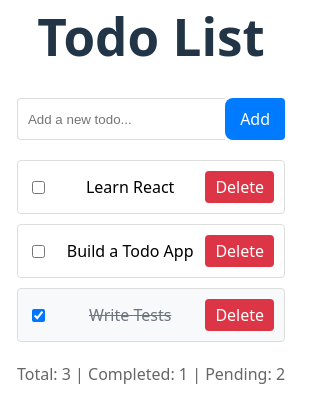
it: TodoList › displays message when there are no todos
Click the button "Delete" next to "Learn React". click: click(240, 188)
box: [205,172,274,204]
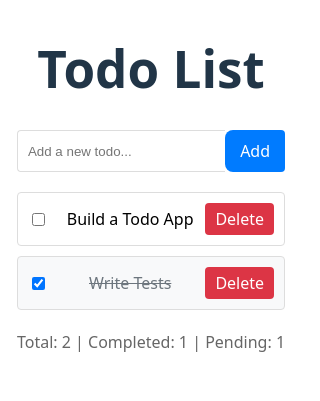
Click the button "Delete" next to "Build a Todo App". click: click(240, 220)
box: [205,204,274,236]
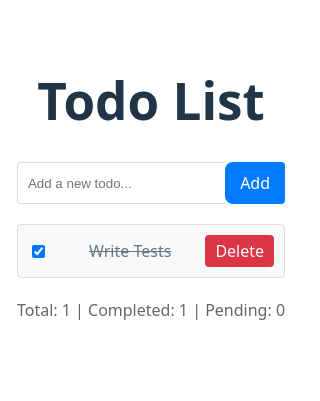
Click the button "Delete". click: click(240, 252)
box: [205,236,274,268]
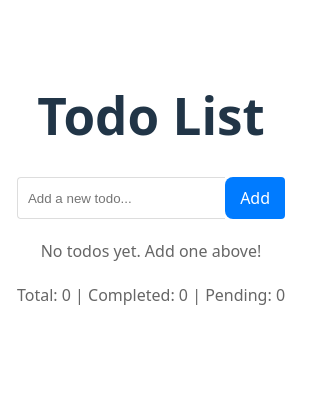
Check: the text "Total: 0 | Completed: 0 | Pending: 0" is shown, box [17,284,285,308]
Check: the text "No todos yet. Add one above!" is shown, box [41,240,261,262]
